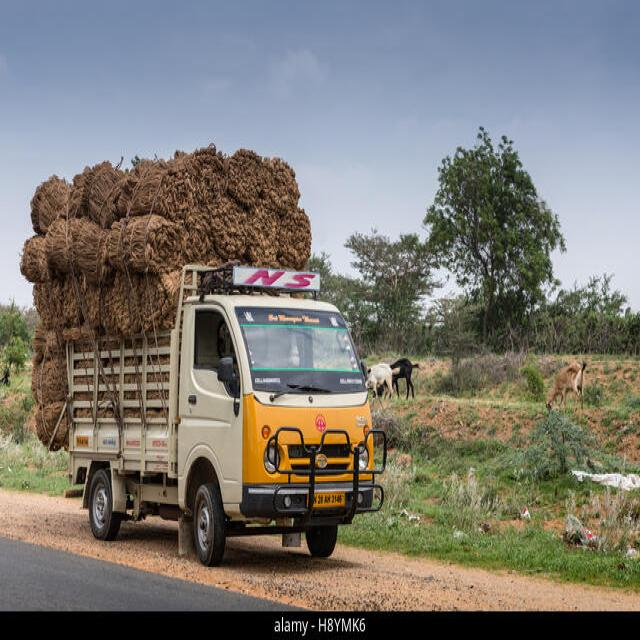normal_truck: (66, 265, 386, 563)
overloaded_truck: (20, 145, 311, 448)
